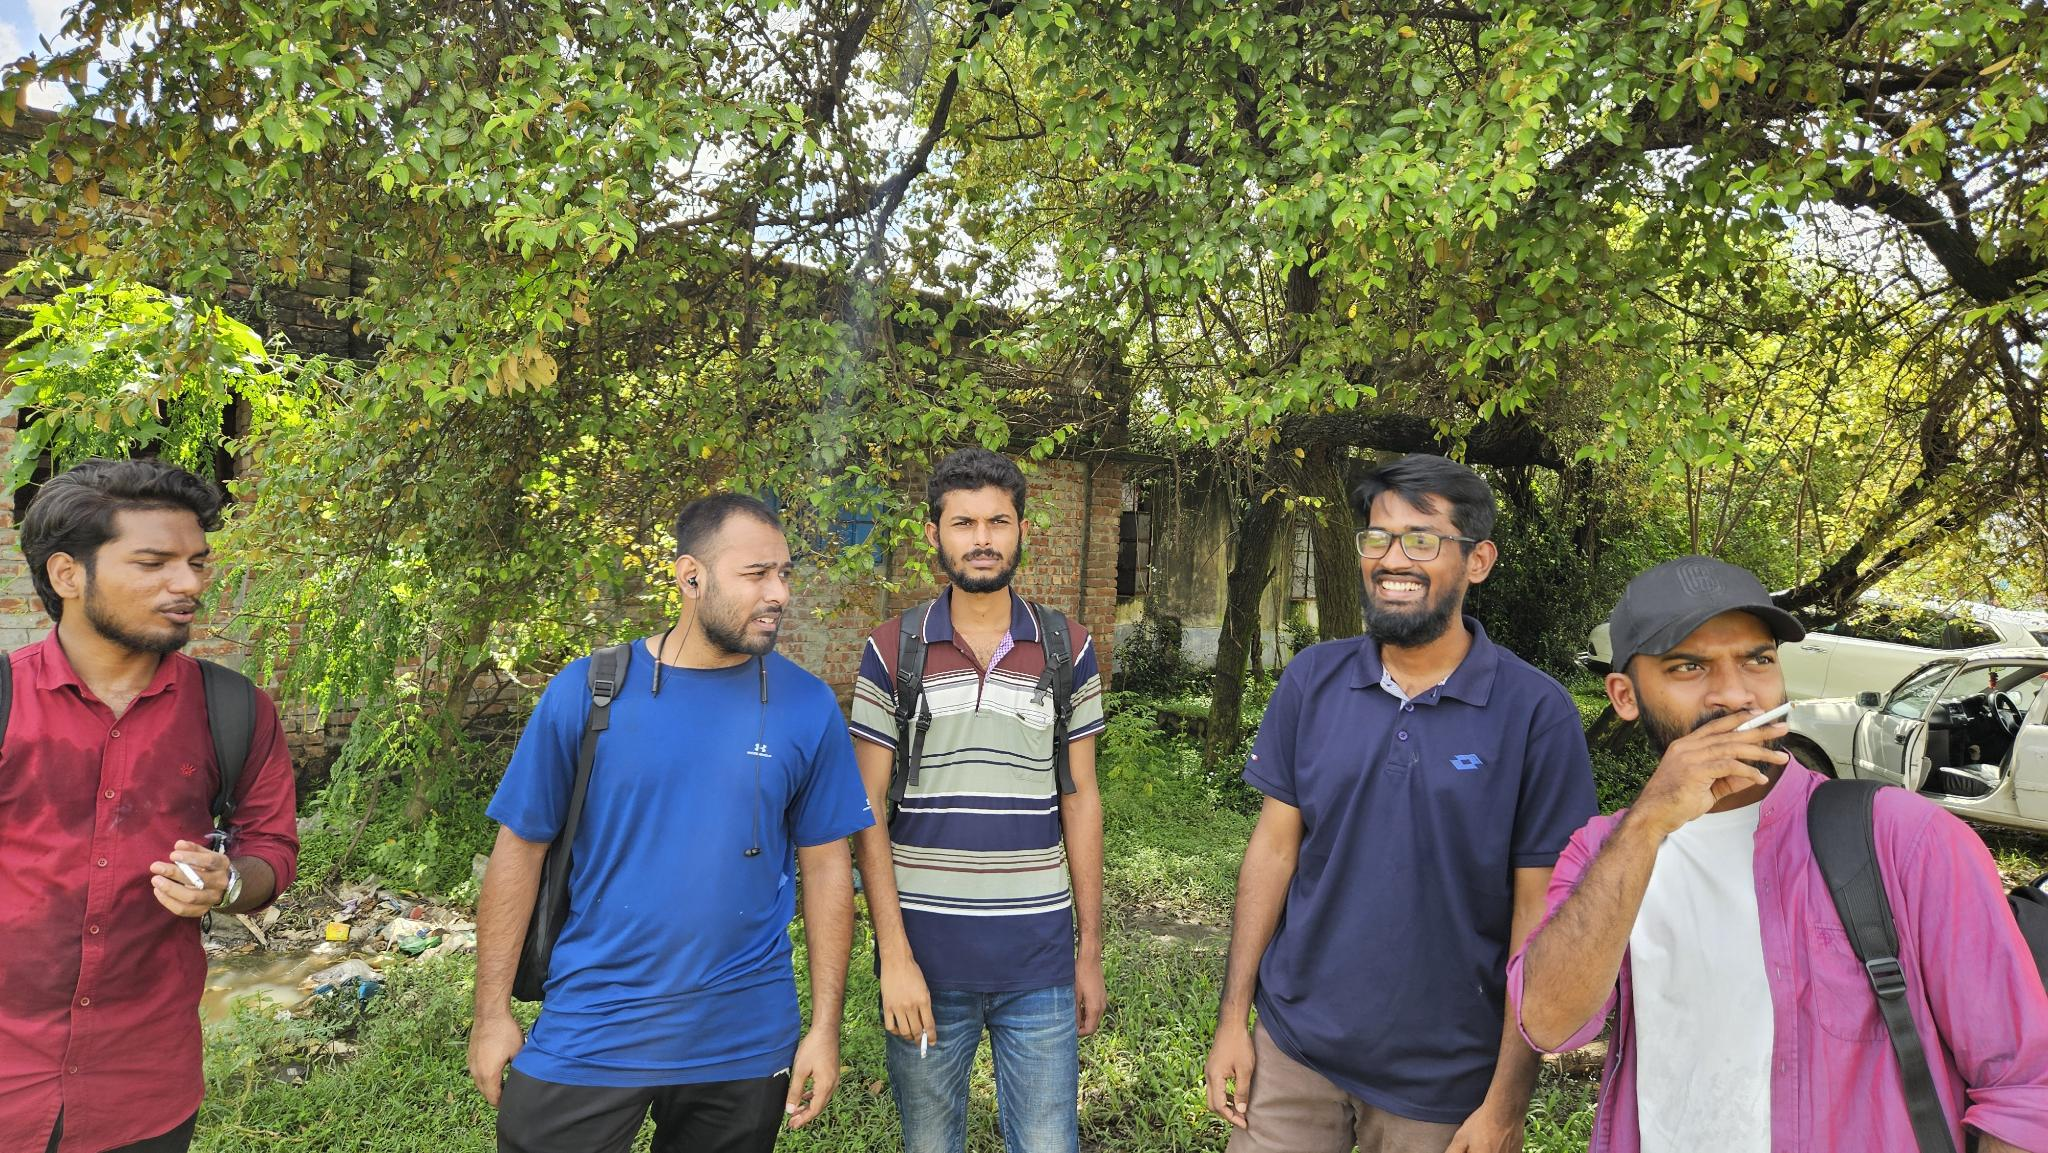cigarette: (1729, 697, 1799, 735), (173, 856, 207, 893), (919, 1025, 930, 1062)
nonSmoker: (1204, 451, 1588, 1153), (466, 491, 862, 1153)
smoker: (1513, 551, 2048, 1153), (0, 458, 300, 1153), (858, 457, 1113, 1153)
